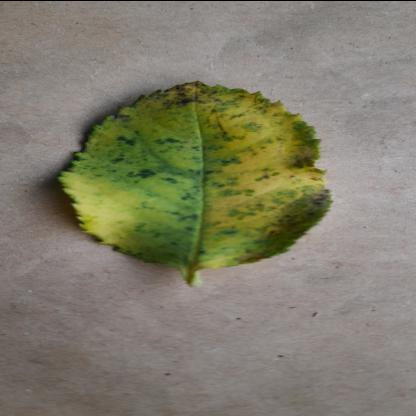black-spot: (51, 79, 336, 271)
